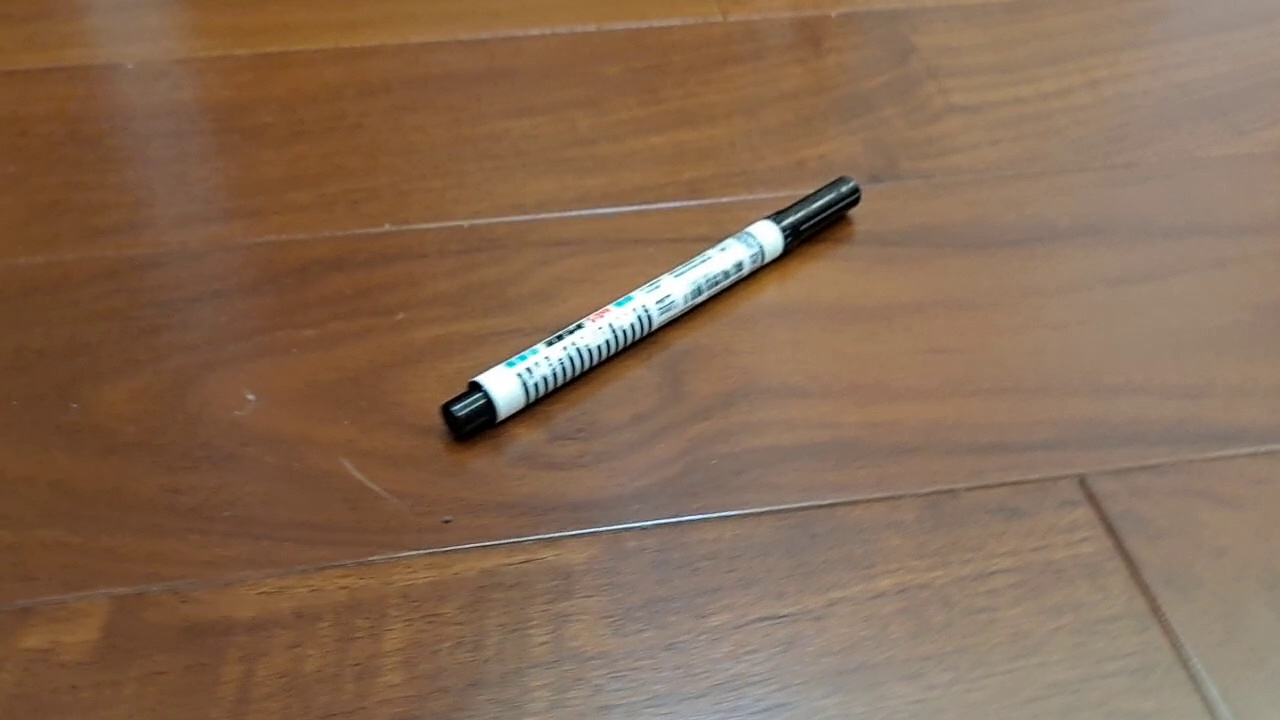pen: (439, 174, 862, 444)
